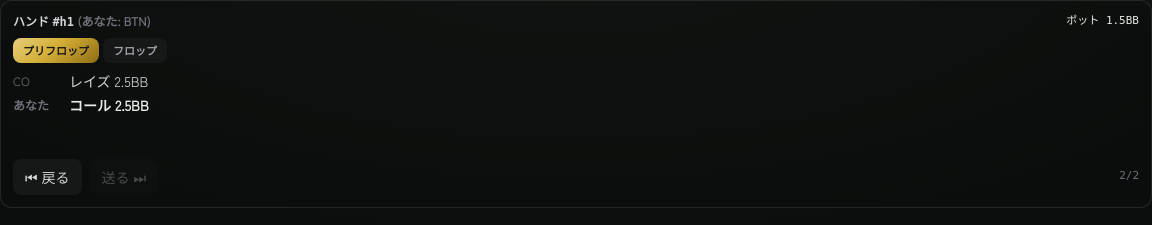
Test: HandReplay › switches streets via tabs
Click the button "フロップ": (135, 50) [103,38,167,62]
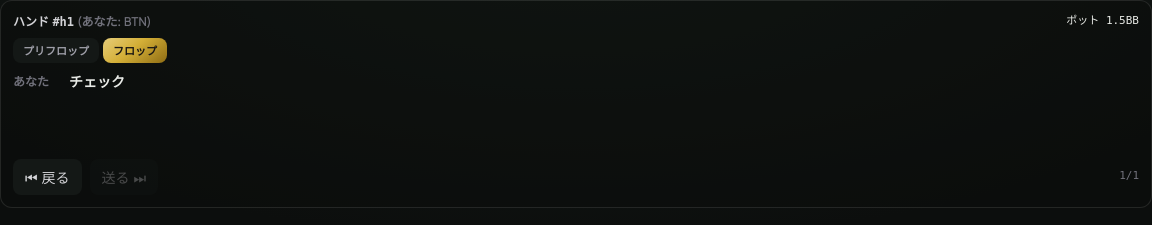
Result: the text "チェック" is shown at [69,70,125,90]
